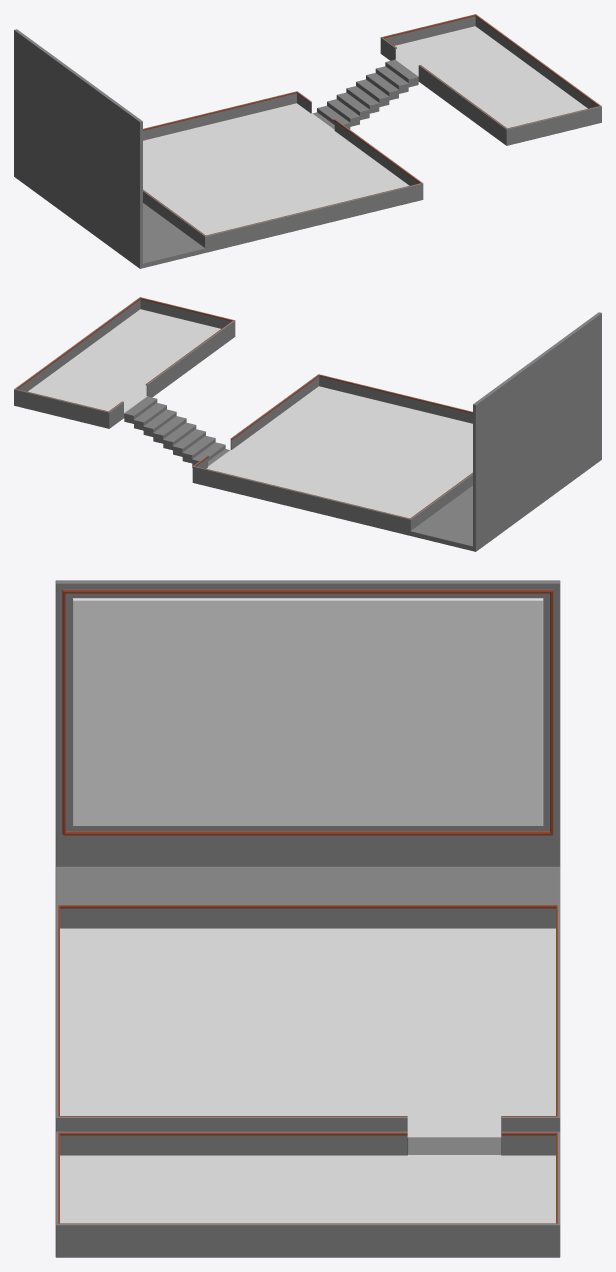
Rendered from stage.fbx.
The picture shows the model from 3 angles, top to bottom: view 1: azimuth 30°, elevation 25°; view 2: azimuth 150°, elevation 25°; view 3: azimuth 270°, elevation 25°; orthographic projection. The views are drawn at different scales.
Parts seen in each view (by area): view 1: stage; view 2: stage; view 3: stage.
Part boxes in pixels (box(x1,y1,x2,y2)): stage: box(14, 14, 601, 268); stage: box(14, 297, 601, 551); stage: box(55, 580, 560, 1257).
Size of the model in its own units: 4231 by 1286 by 2000.
